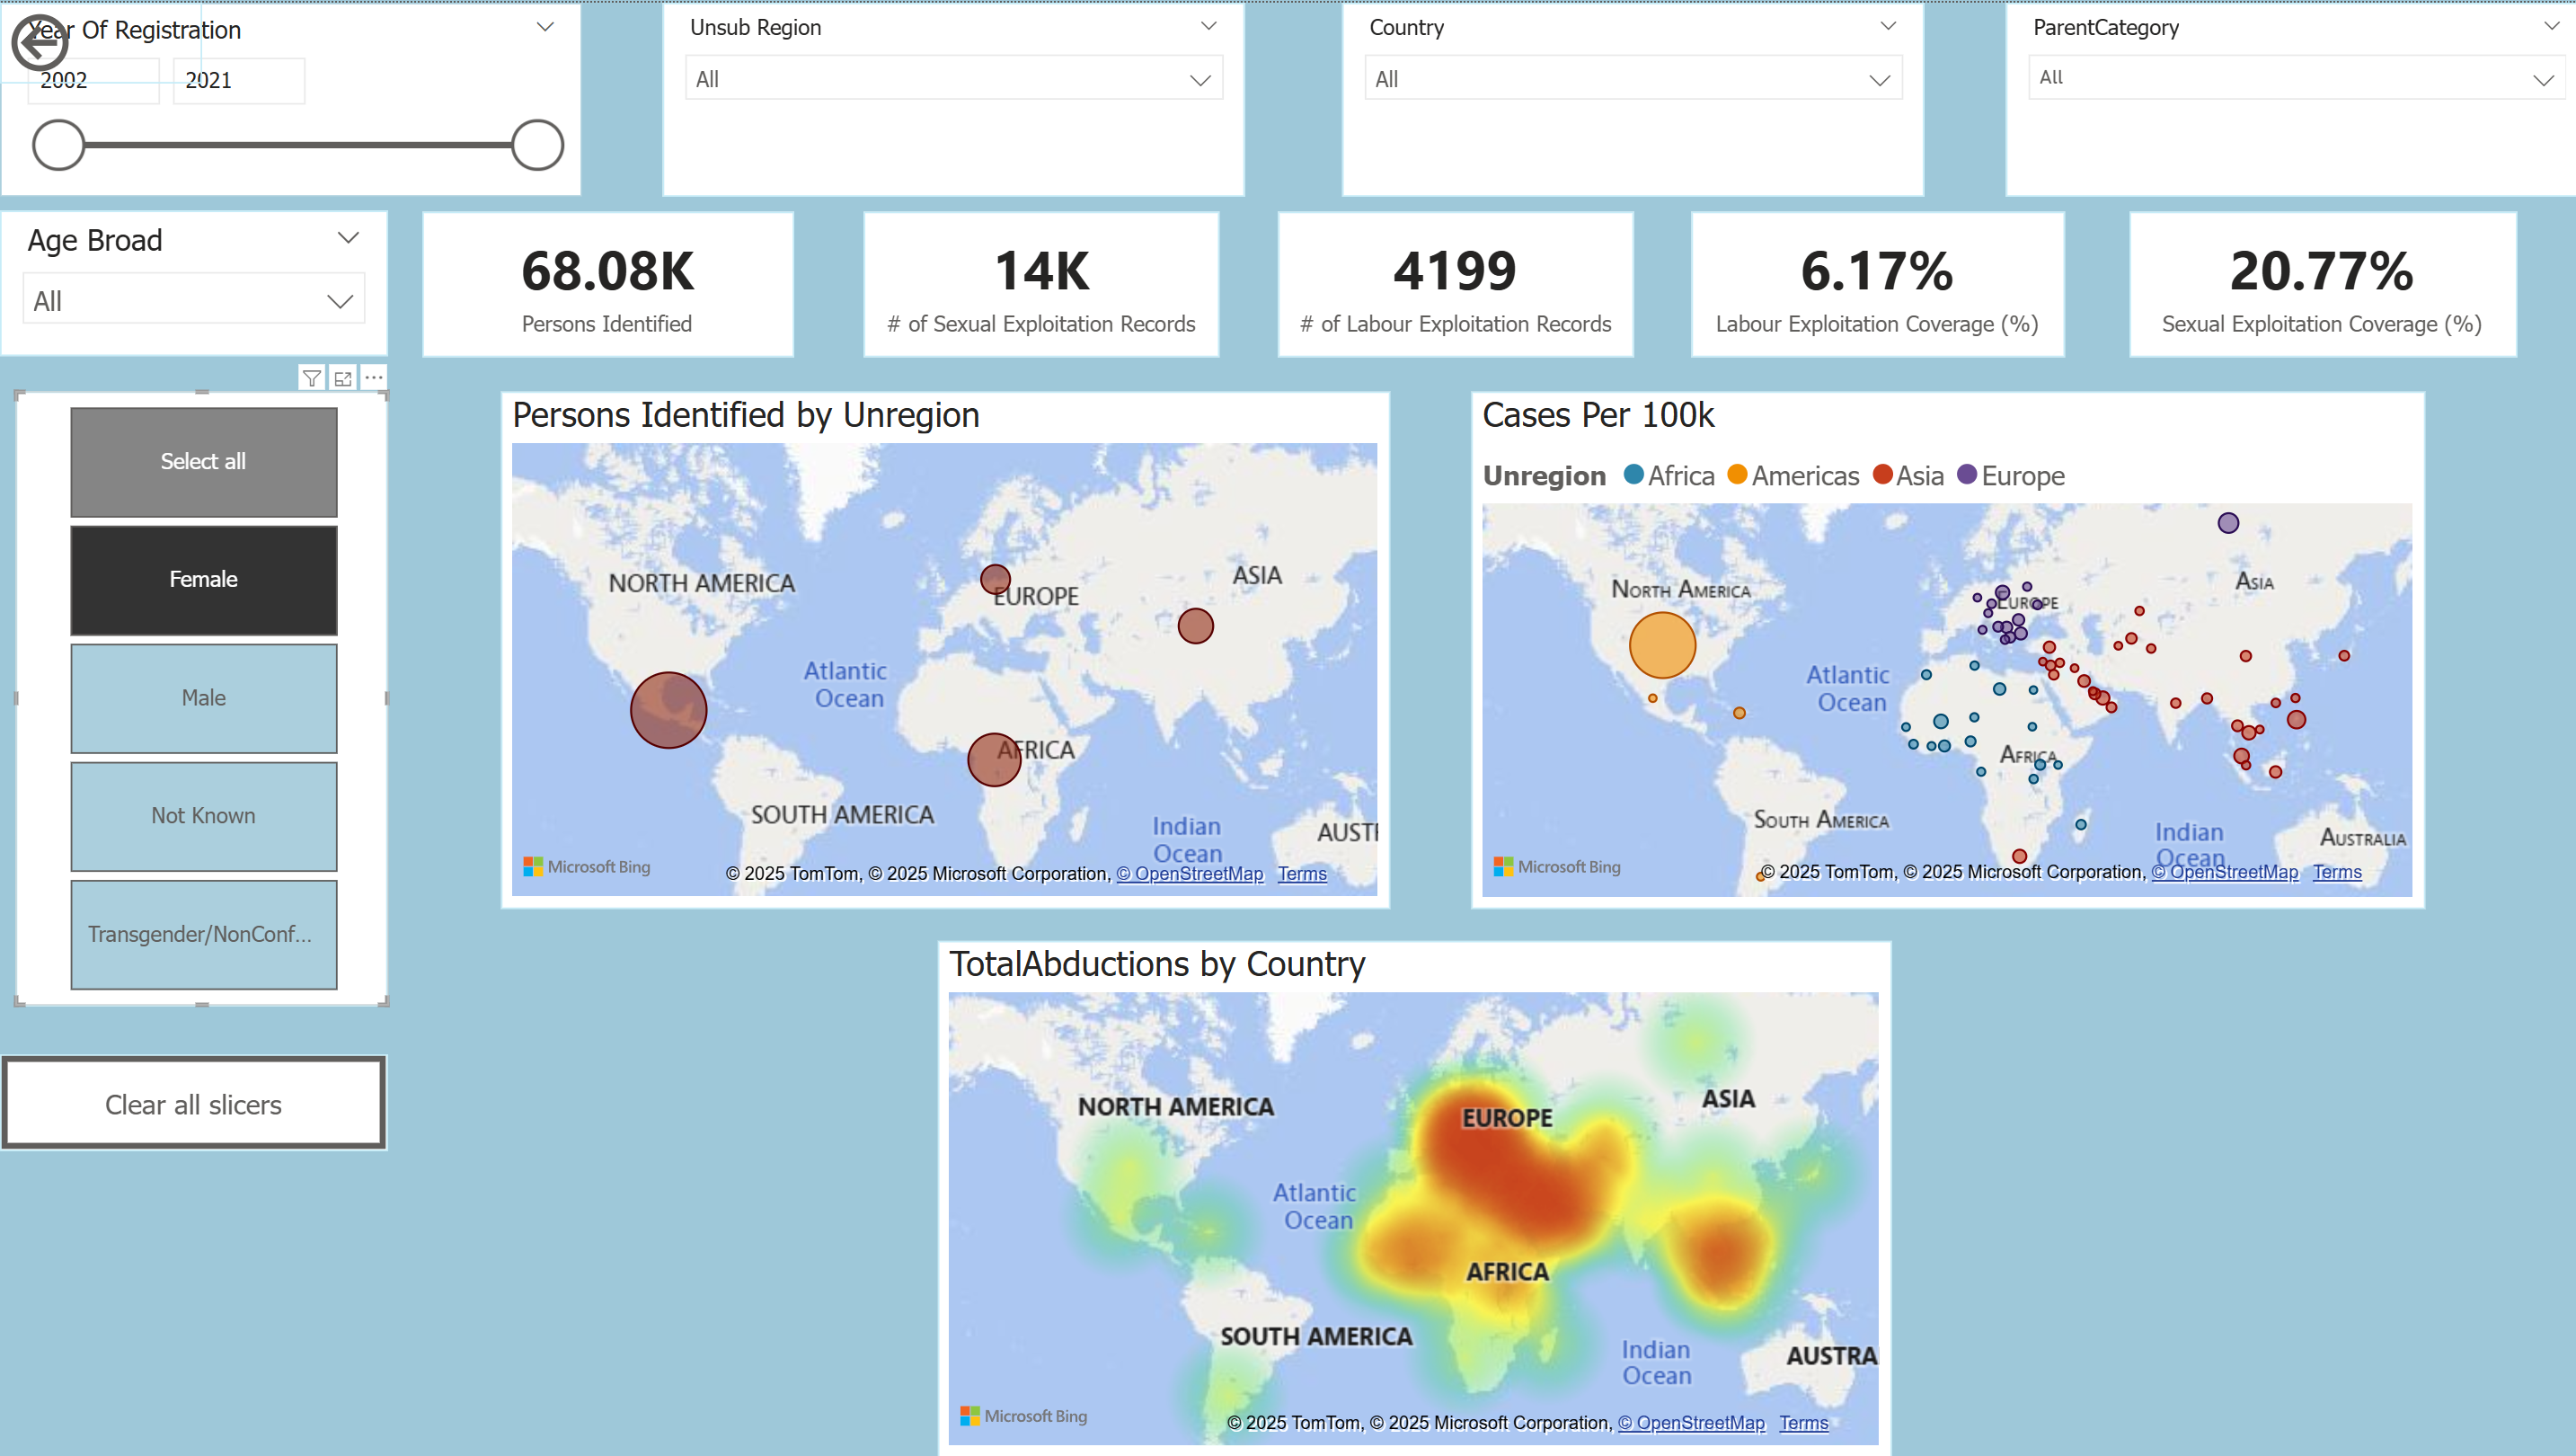

The page's visual inventory and layout, read from the dashboard file:
{"tool":"powerbi","page":{"name":"Maps","canvas":[1280,720],"ordinal":1},"visuals":[{"type":"card","fields":{"Values":["CTDC.Persons Identified"]},"box":[209.1,103.1,183.8,72],"z":0},{"type":"card","fields":{"Values":["CTDC.LabourExploitationCount"]},"box":[632.2,103.1,176,72],"z":1000},{"type":"card","fields":{"Values":["CTDC.SexualExploitationCompleteness"]},"box":[1053.4,103.1,191.6,72],"z":2000},{"type":"card","fields":{"Values":["CTDC.LabourExploitationCompleteness"]},"box":[836.5,103.1,184.8,72],"z":3000},{"type":"slicer","fields":{"Values":["CTDC.Year Of Registration"]},"box":[0,0,288,96],"z":4000},{"type":"slicer","fields":{"Values":["CTDC.Gender"]},"box":[8,192,184,304],"z":5000},{"type":"slicer","fields":{"Values":["CTDC.ParentCategory"]},"box":[992,0,288,96],"z":6000},{"type":"slicer","fields":{"Values":["CTDC.Age Broad"]},"box":[0,102.9,191.6,71.9],"z":7000},{"type":"slicer","fields":{"Values":["CTDC.Country"]},"box":[664,0,288,96],"z":8000},{"type":"card","fields":{"Values":["CTDC.SexualExploitationCount"]},"box":[427,103.1,176,72],"z":9000},{"type":"actionButton","box":[0,0,100,40],"z":10000},{"type":"slicer","fields":{"Values":["CTDC.Unsub Region"]},"box":[328,0,288,96],"z":11000},{"type":"map","fields":{"Category":["CTDC.Unregion"],"Size":["CTDC.Persons Identified"]},"box":[248,192,440,256],"z":12000},{"type":"map","fields":{"Category":["CTDC.Country"],"Size":["CTDC.TotalAbductions"]},"box":[464,464,472,256],"z":13000},{"type":"actionButton","box":[0,520,192,48],"z":14000},{"type":"map","fields":{"Category":["CTDC.Iso2"],"Series":["CTDC.Unregion"],"Size":["case_abduction_flags.CasesPer100k"]},"box":[728,192,472,256],"z":14001}]}

Visuals, with their boxes in screenshot pixels (x1, y1, x2, y2):
card - CTDC.Persons Identified: [x1=421, y1=205, x2=786, y2=348]
card - CTDC.LabourExploitationCount: [x1=1261, y1=205, x2=1611, y2=348]
card - CTDC.SexualExploitationCompleteness: [x1=2097, y1=205, x2=2478, y2=348]
card - CTDC.LabourExploitationCompleteness: [x1=1667, y1=205, x2=2033, y2=348]
slicer - CTDC.Year Of Registration: [x1=6, y1=0, x2=579, y2=191]
slicer - CTDC.Gender: [x1=22, y1=381, x2=388, y2=985]
slicer - CTDC.ParentCategory: [x1=1976, y1=0, x2=2547, y2=191]
slicer - CTDC.Age Broad: [x1=6, y1=204, x2=387, y2=347]
slicer - CTDC.Country: [x1=1324, y1=0, x2=1896, y2=191]
card - CTDC.SexualExploitationCount: [x1=854, y1=205, x2=1203, y2=348]
actionButton: [x1=6, y1=0, x2=205, y2=79]
slicer - CTDC.Unsub Region: [x1=658, y1=0, x2=1229, y2=191]
map - CTDC.Unregion x CTDC.Persons Identified: [x1=499, y1=381, x2=1372, y2=890]
map - CTDC.Country x CTDC.TotalAbductions: [x1=927, y1=921, x2=1864, y2=1429]
actionButton: [x1=6, y1=1033, x2=388, y2=1128]
map - CTDC.Iso2 x CTDC.Unregion: [x1=1452, y1=381, x2=2388, y2=890]
